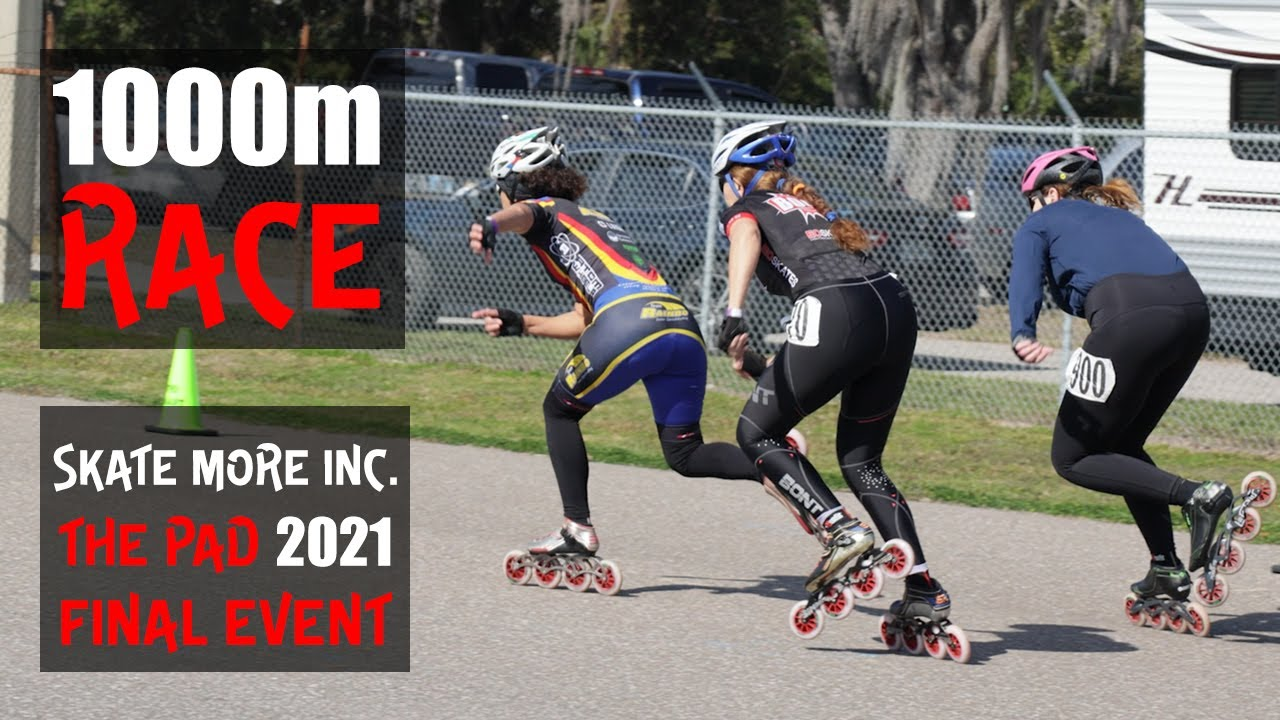roller_blade: (503, 517, 624, 589), (793, 519, 889, 605), (1193, 481, 1271, 572), (1122, 554, 1202, 637), (901, 581, 959, 648)
